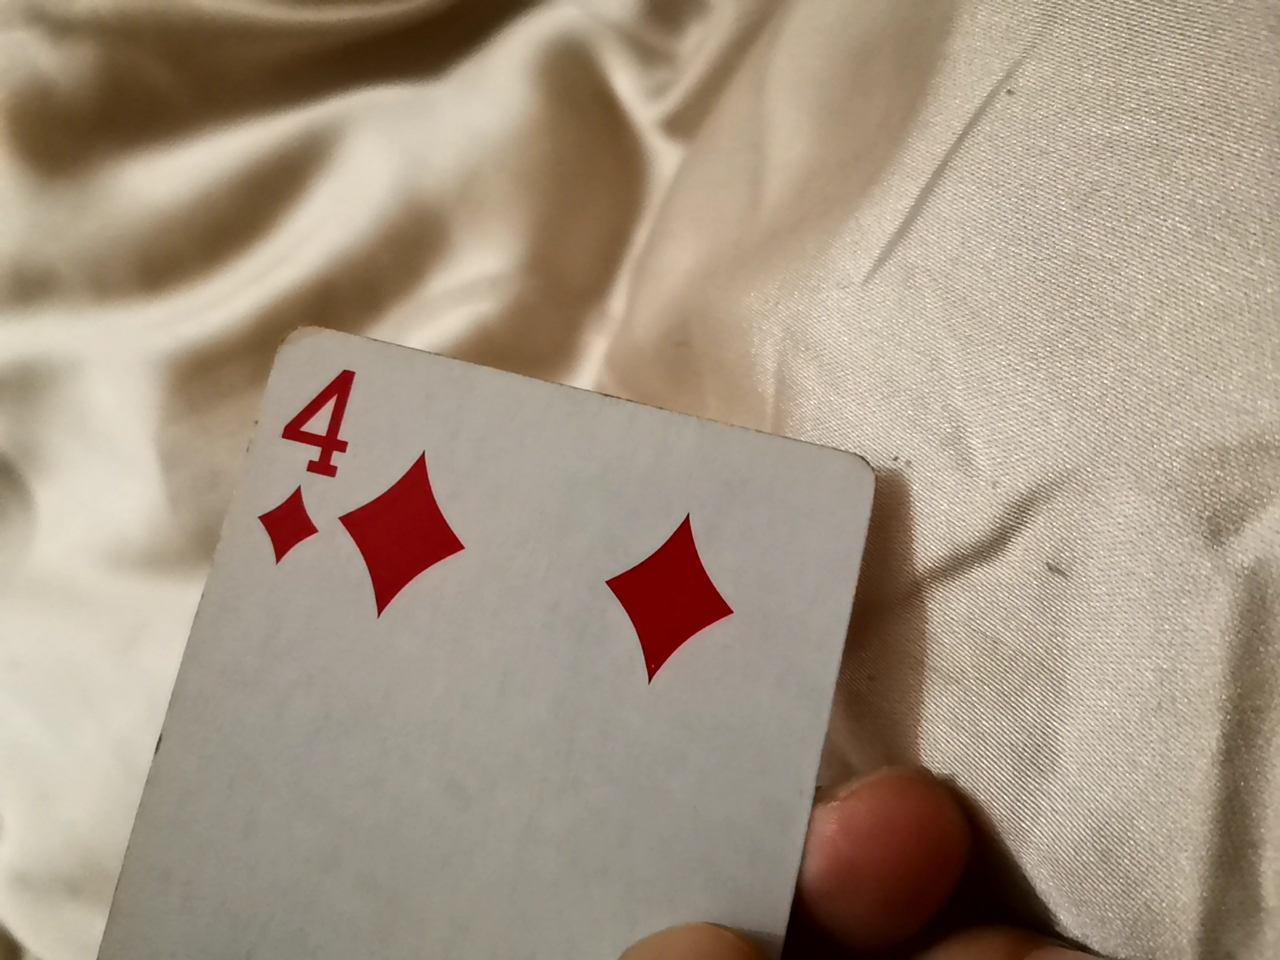fk 4: (191, 299, 882, 954)
